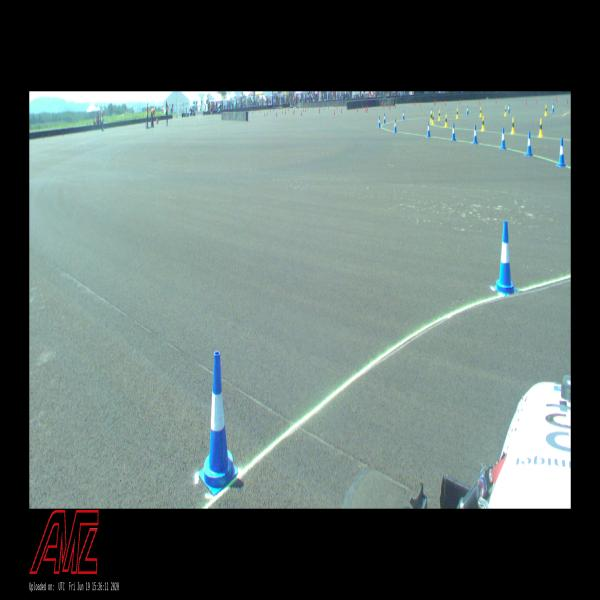blue_cone: (199, 352, 238, 495), (493, 220, 518, 296), (557, 138, 566, 166), (526, 132, 533, 156), (501, 127, 506, 149), (473, 124, 478, 144), (451, 123, 456, 141), (427, 121, 430, 137), (383, 114, 386, 124), (394, 119, 396, 132), (378, 116, 380, 128), (402, 110, 404, 120), (552, 102, 554, 112), (508, 104, 510, 113), (466, 106, 468, 114), (430, 108, 432, 116)
yellow_cone: (538, 119, 543, 137), (510, 117, 514, 134), (431, 113, 434, 124), (479, 107, 482, 117), (482, 116, 484, 131), (504, 106, 507, 116), (445, 114, 447, 127), (438, 110, 440, 121), (430, 112, 432, 123), (456, 108, 458, 119), (545, 105, 547, 115)
